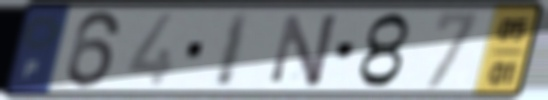4: (123, 11, 179, 89)
6: (63, 9, 122, 91)
7: (423, 9, 486, 92)
8: (356, 11, 413, 89)
I: (211, 10, 255, 90)
N: (267, 11, 342, 89)
